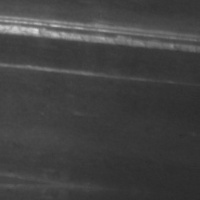scratches: (15, 13, 199, 53), (12, 57, 176, 86)
